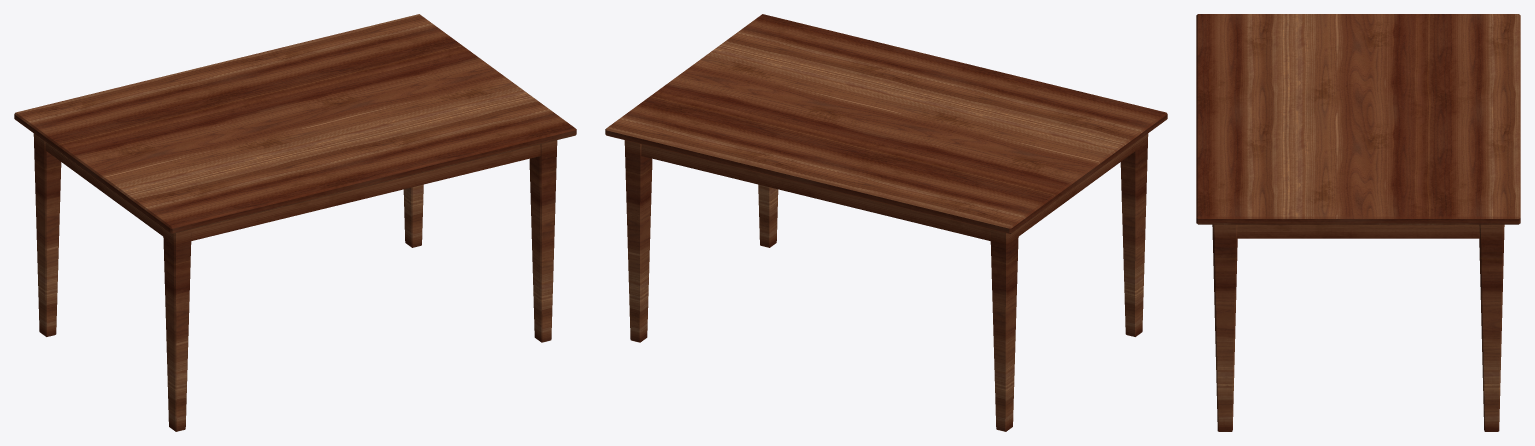
File: table_living_room.obj
The picture shows the model from 3 angles, left to right: view 1: azimuth 30°, elevation 25°; view 2: azimuth 150°, elevation 25°; view 3: azimuth 270°, elevation 25°; orthographic projection. The views are drawn at different scales.
Visible parts, largest first — view 1: table_living_room_01; view 2: table_living_room_01; view 3: table_living_room_01.
Part boxes in pixels (left/top/right/bottom): table_living_room_01: left=14, top=14, right=576, bottom=431; table_living_room_01: left=605, top=14, right=1167, bottom=431; table_living_room_01: left=1196, top=14, right=1520, bottom=431.
Size of the model in its own units: 1.47 by 0.7475 by 0.9882.
